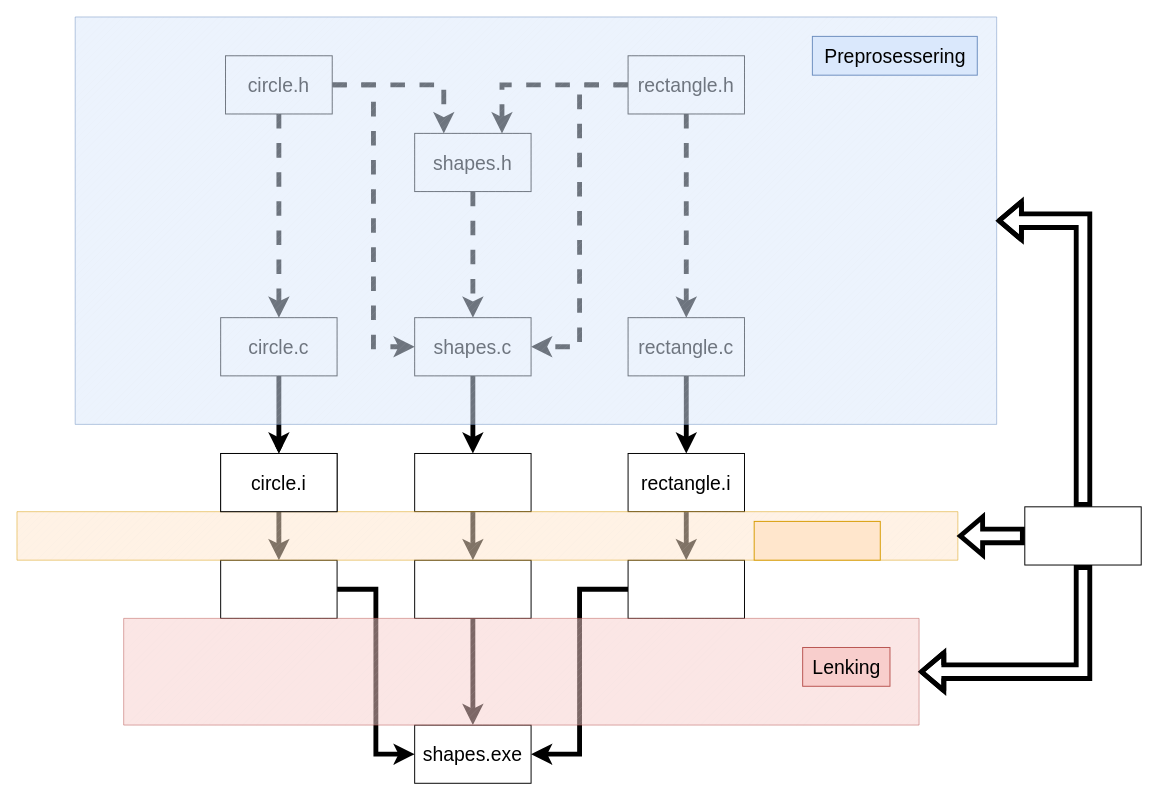
Some shapes in this 1158 by 800 pixel diagram are drawn without their labels. The shapes that lost their labels are listed below. From the top down, each one's box as (x1, y1, x2, y2) in pixels, then its label:
(414, 453, 531, 512): shapes.i
(753, 520, 880, 560): Kompilering
(1024, 506, 1141, 565): Makefile
(220, 559, 337, 618): circle.o
(414, 559, 531, 618): shapes.o
(627, 559, 744, 618): rectangle.o
